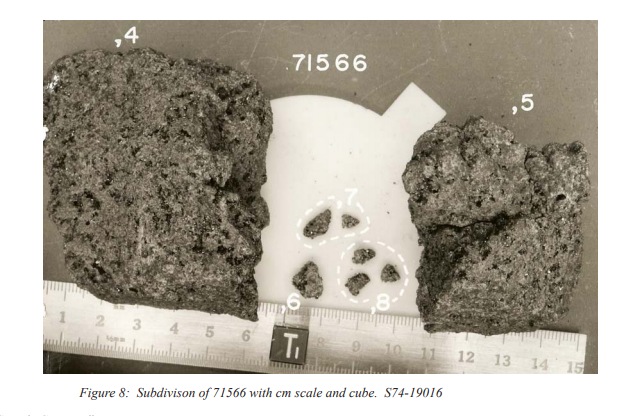Basalt: (59, 42, 279, 325), (410, 134, 580, 329), (96, 124, 176, 224), (459, 211, 540, 297)
